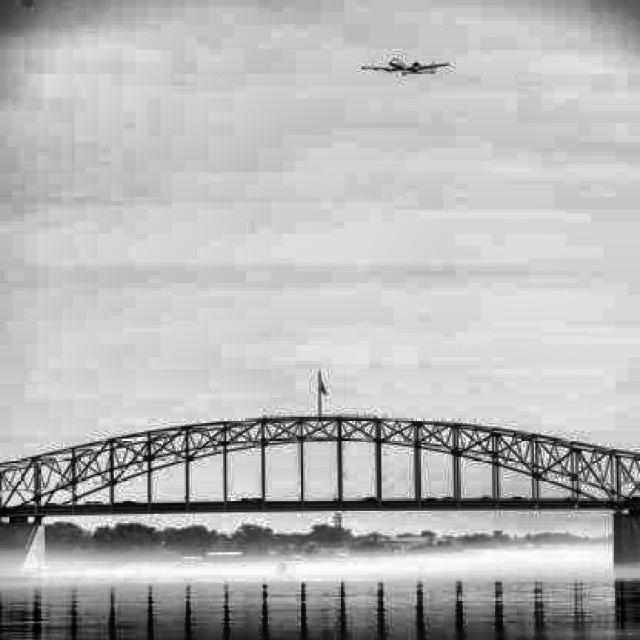A10: (360, 59, 454, 76)
